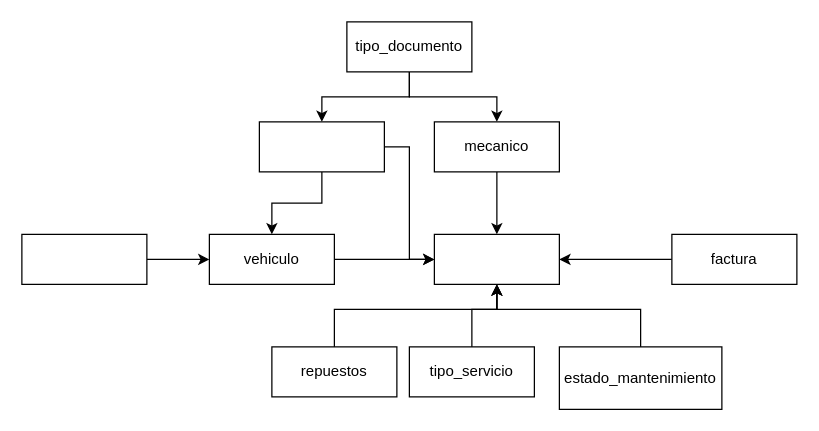
Image size: 819x431. Some labels were removed from this diagram. Each missing label, with the box of its shape:
cliente: (258, 121, 384, 172)
mantenimiento: (433, 233, 559, 284)
tipo_vehiculo: (21, 233, 147, 284)
